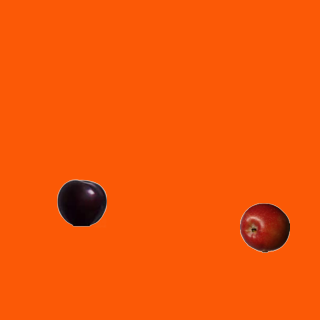Apple Braeburn: (239, 202, 289, 252)
Cherry Wax Black: (56, 177, 106, 227)
